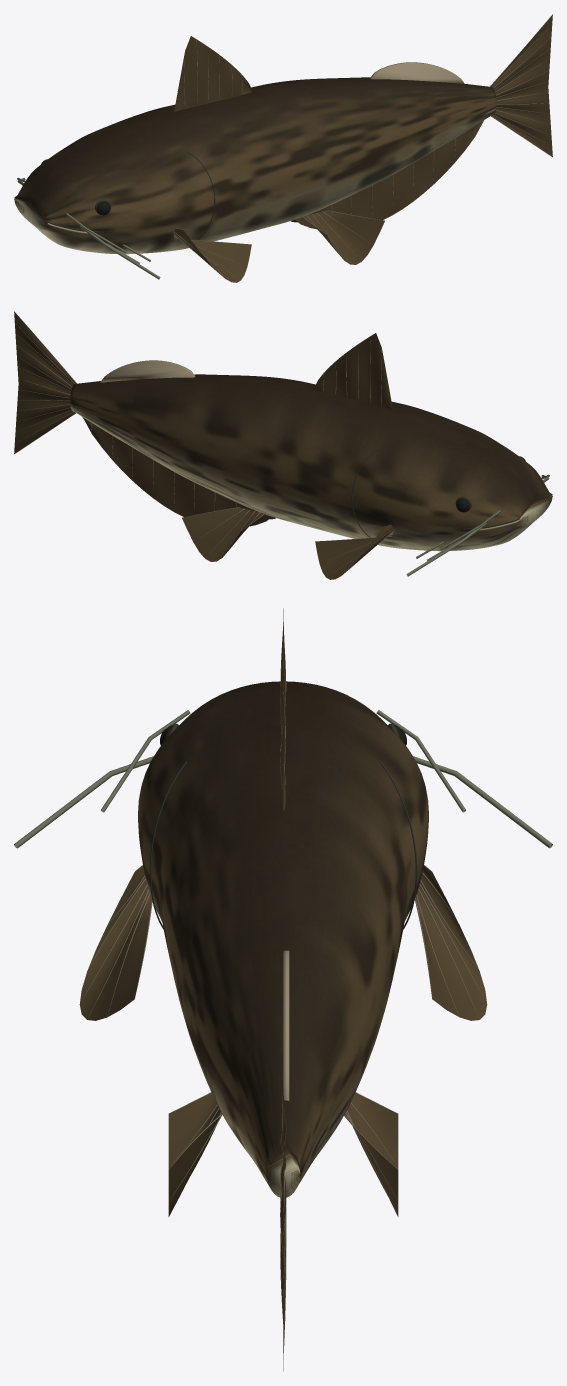
Rendered from brown-bullhead.glb.
3 renders of one model, top to bottom at view 1: azimuth 30°, elevation 25°; view 2: azimuth 150°, elevation 25°; view 3: azimuth 270°, elevation 25°, orthographic. The views are drawn at different scales.
Parts seen in each view (by area): view 1: brown-bullhead specimen.002; view 2: brown-bullhead specimen.002; view 3: brown-bullhead specimen.002.
Part boxes in pixels (x1,y1,x2,y2): brown-bullhead specimen.002: [14, 14, 552, 282]; brown-bullhead specimen.002: [14, 311, 552, 579]; brown-bullhead specimen.002: [14, 608, 552, 1371].
Bounding box in the file's own units: 2.06 × 0.9085 × 0.9327.
Materials: 10 (3 with a texture image).
